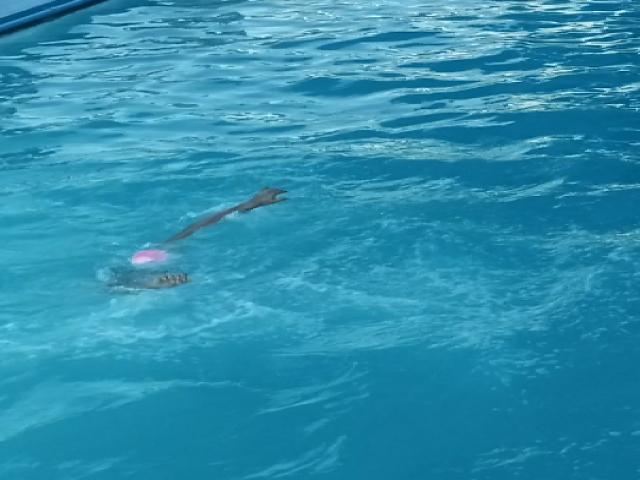drowning: (109, 182, 292, 292)
